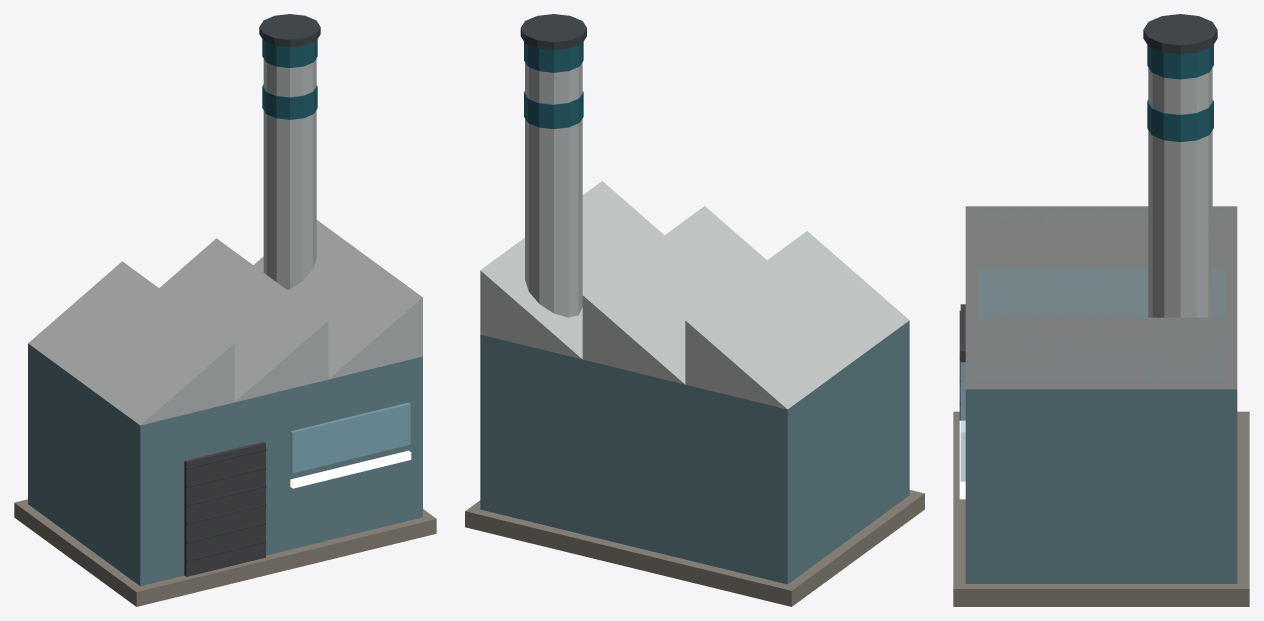
Rendered from w-factory-mist.glb.
The picture shows the model from 3 angles, left to right: view 1: azimuth 30°, elevation 25°; view 2: azimuth 150°, elevation 25°; view 3: azimuth 270°, elevation 25°; orthographic projection. The views are drawn at different scales.
Visible parts, largest first — view 1: w-factory-mist; view 2: w-factory-mist; view 3: w-factory-mist.
Boxes of the visible parts, bbox=[...] form: w-factory-mist: bbox=[14, 14, 436, 606]; w-factory-mist: bbox=[465, 14, 924, 606]; w-factory-mist: bbox=[953, 14, 1249, 606].
Bounding box in the file's own units: 1.7 × 2.44 × 1.2.
